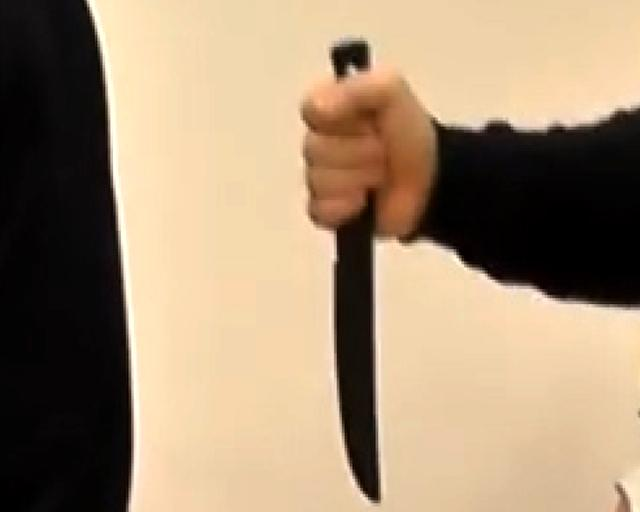long knife: (297, 32, 407, 506)
